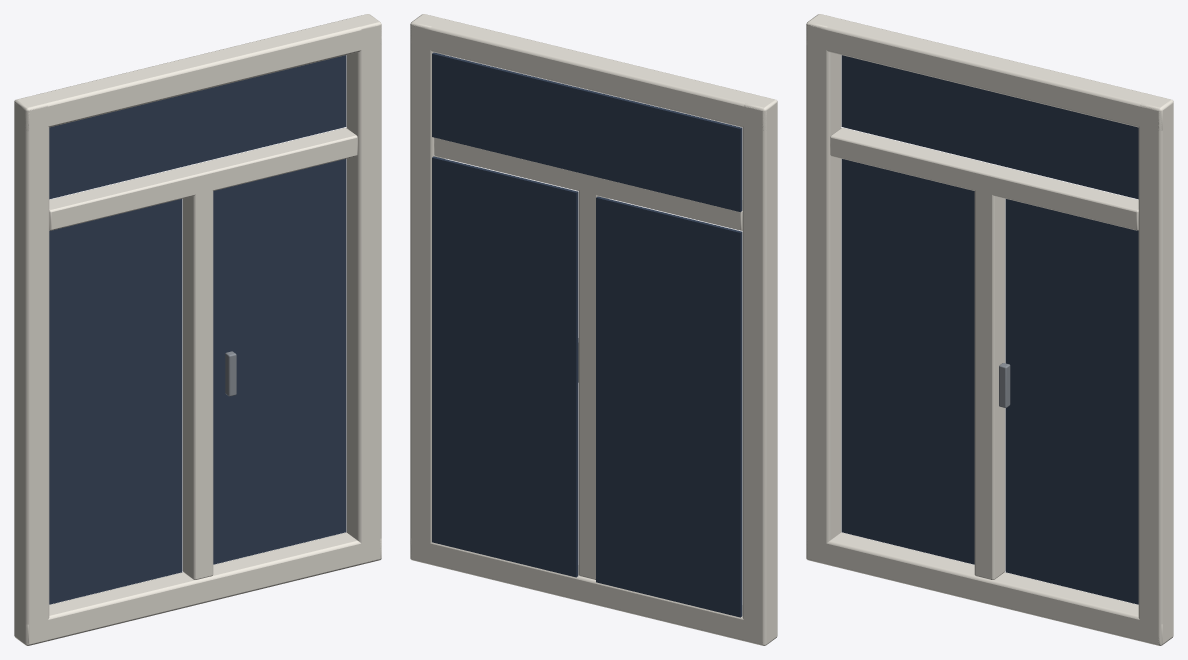
Rendered from shaft_window_narrow.fbx.
The picture shows the model from 3 angles, left to right: view 1: azimuth 30°, elevation 25°; view 2: azimuth 150°, elevation 25°; view 3: azimuth 330°, elevation 25°; orthographic projection.
Parts seen in each view (by area): view 1: shaft_window_narrow; view 2: shaft_window_narrow; view 3: shaft_window_narrow.
Boxes of the visible parts, x1,y1,x2,y2 form: shaft_window_narrow: (14,14,381,645); shaft_window_narrow: (410,14,777,645); shaft_window_narrow: (806,14,1173,645).
Bounding box in the file's own units: 0.9 × 0.084 × 1.3.
